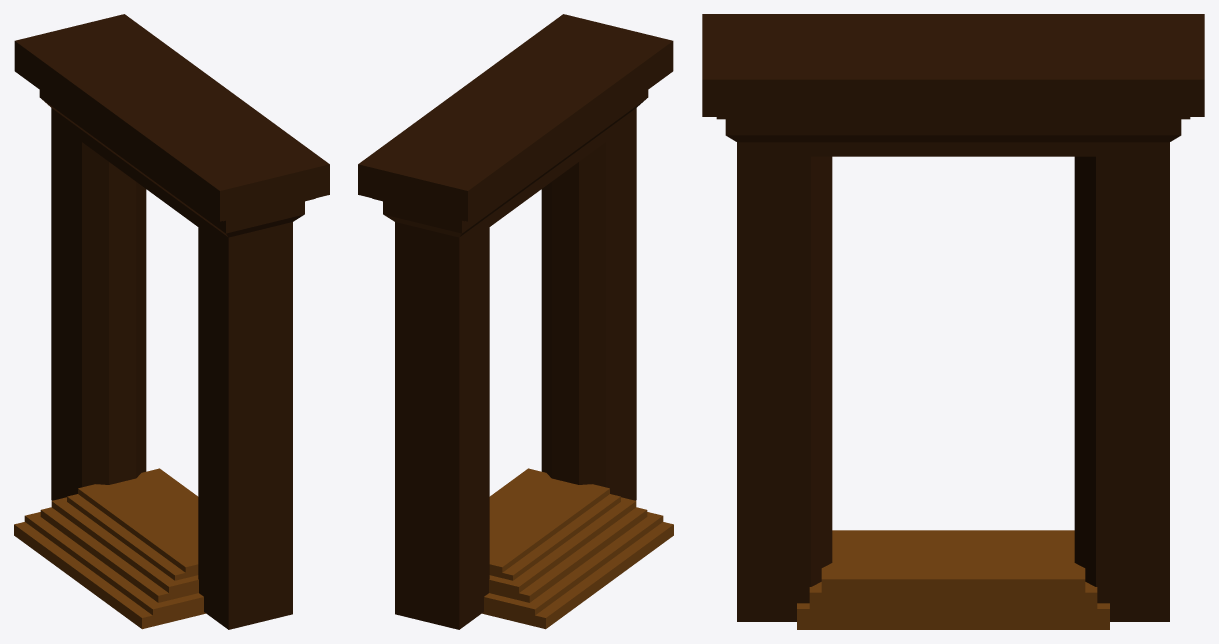
The model's file is gate.fbx.
3 renders of one model, left to right at view 1: azimuth 30°, elevation 25°; view 2: azimuth 150°, elevation 25°; view 3: azimuth 270°, elevation 25°, orthographic. The views are drawn at different scales.
Parts seen in each view (by area): view 1: Gate, stairs.2; view 2: Gate, stairs.2; view 3: Gate, stairs.2.
Boxes of the visible parts, x1=… form: Gate: x1=14, y1=14, x2=329, y2=629; stairs.2: x1=14, y1=468, x2=205, y2=629; Gate: x1=358, y1=14, x2=673, y2=629; stairs.2: x1=482, y1=468, x2=673, y2=629; Gate: x1=702, y1=14, x2=1204, y2=621; stairs.2: x1=797, y1=530, x2=1109, y2=629.
Bounding box in the file's own units: 463 × 1356 × 1104.
